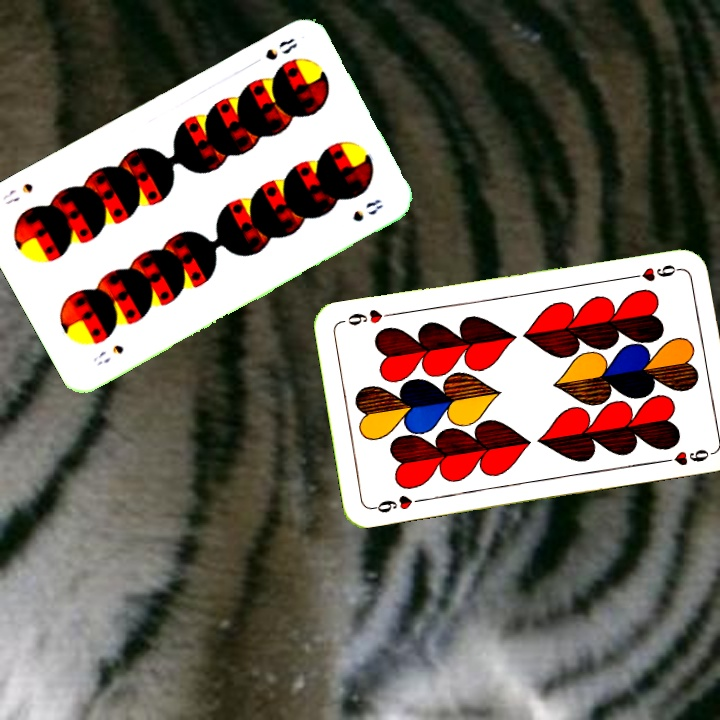H9: (368, 491, 427, 516), (624, 261, 683, 284)
S8: (261, 34, 300, 63), (89, 341, 126, 368)
